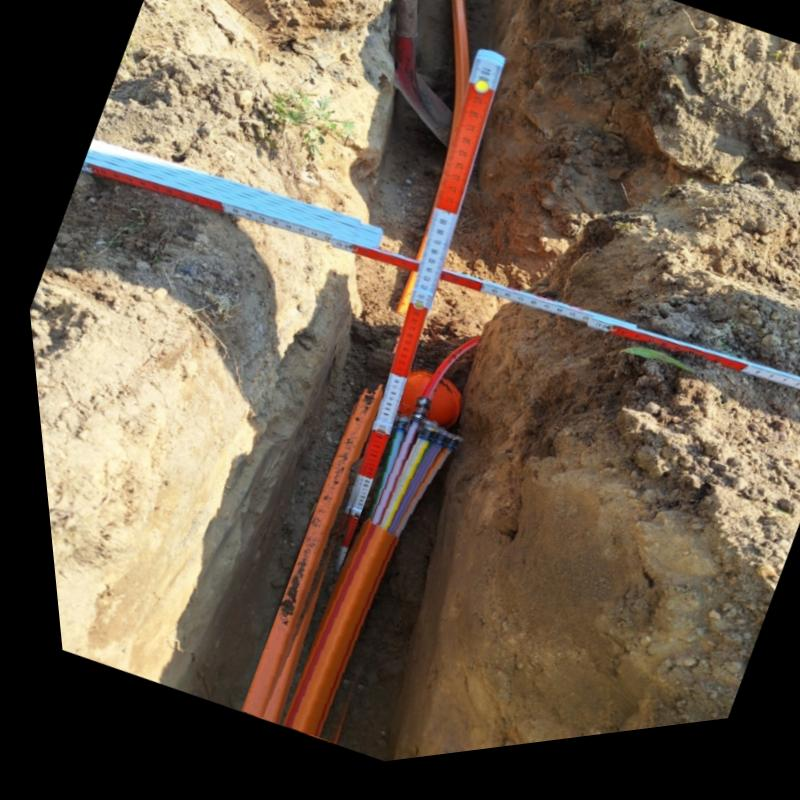Kugelmarker: (387, 381, 451, 437)
Orang-Speednetrohrchen: (267, 425, 454, 744), (225, 396, 374, 725)
